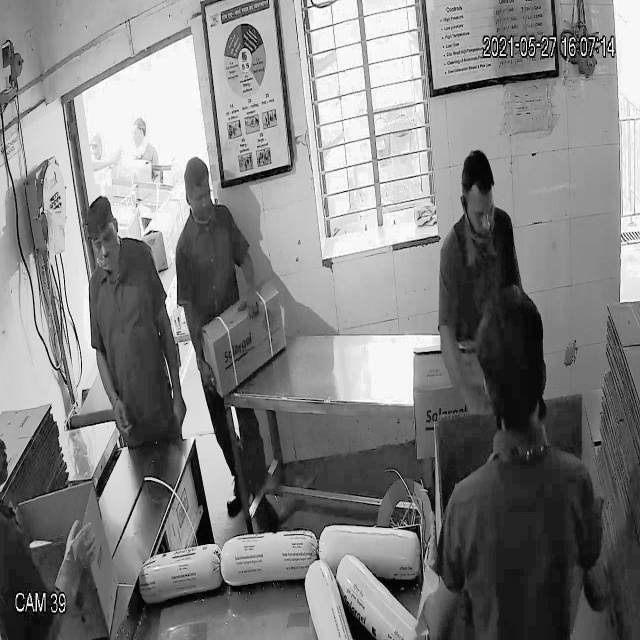Sin_gafas: (462, 188, 495, 229), (87, 222, 120, 257)
